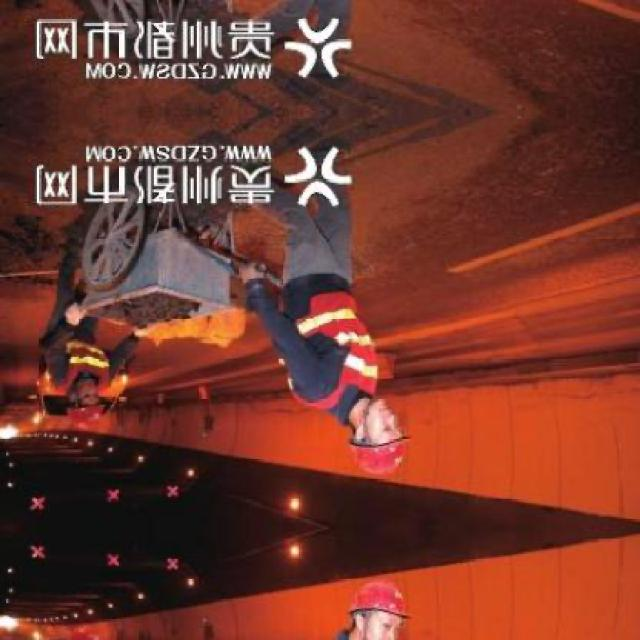con casco: (273, 353, 424, 480), (49, 358, 112, 436)
